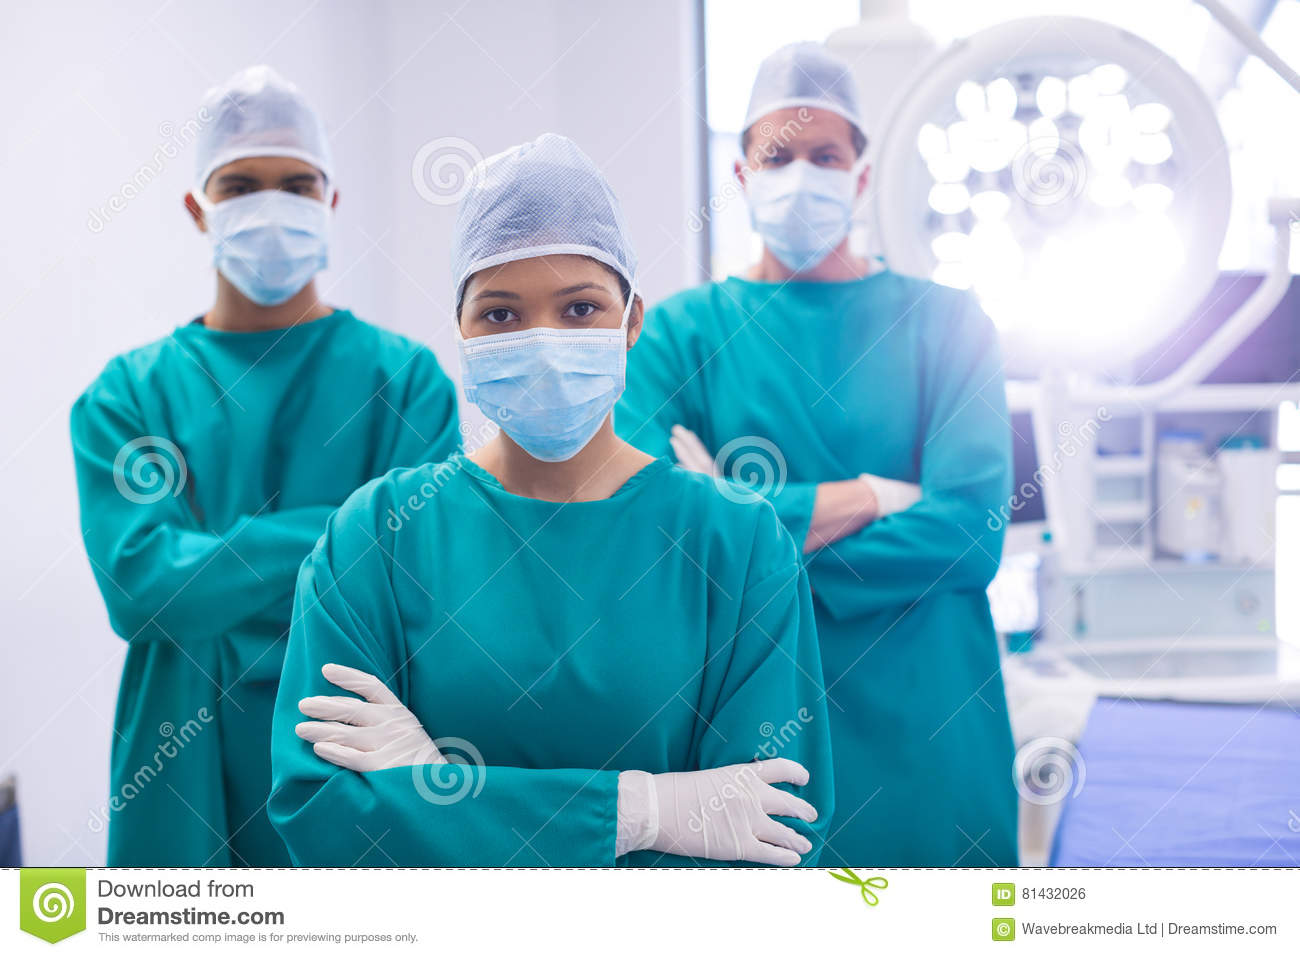mask: (463, 326, 635, 461), (744, 169, 872, 263), (207, 196, 328, 291)
